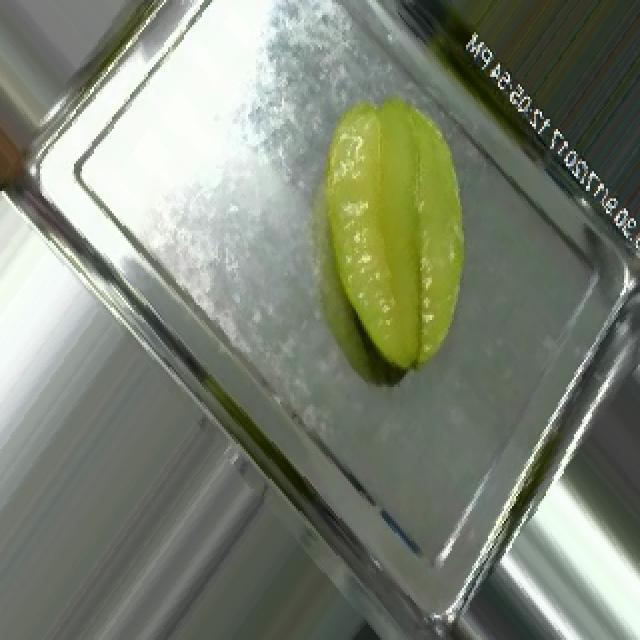fruit: (250, 52, 542, 412)
